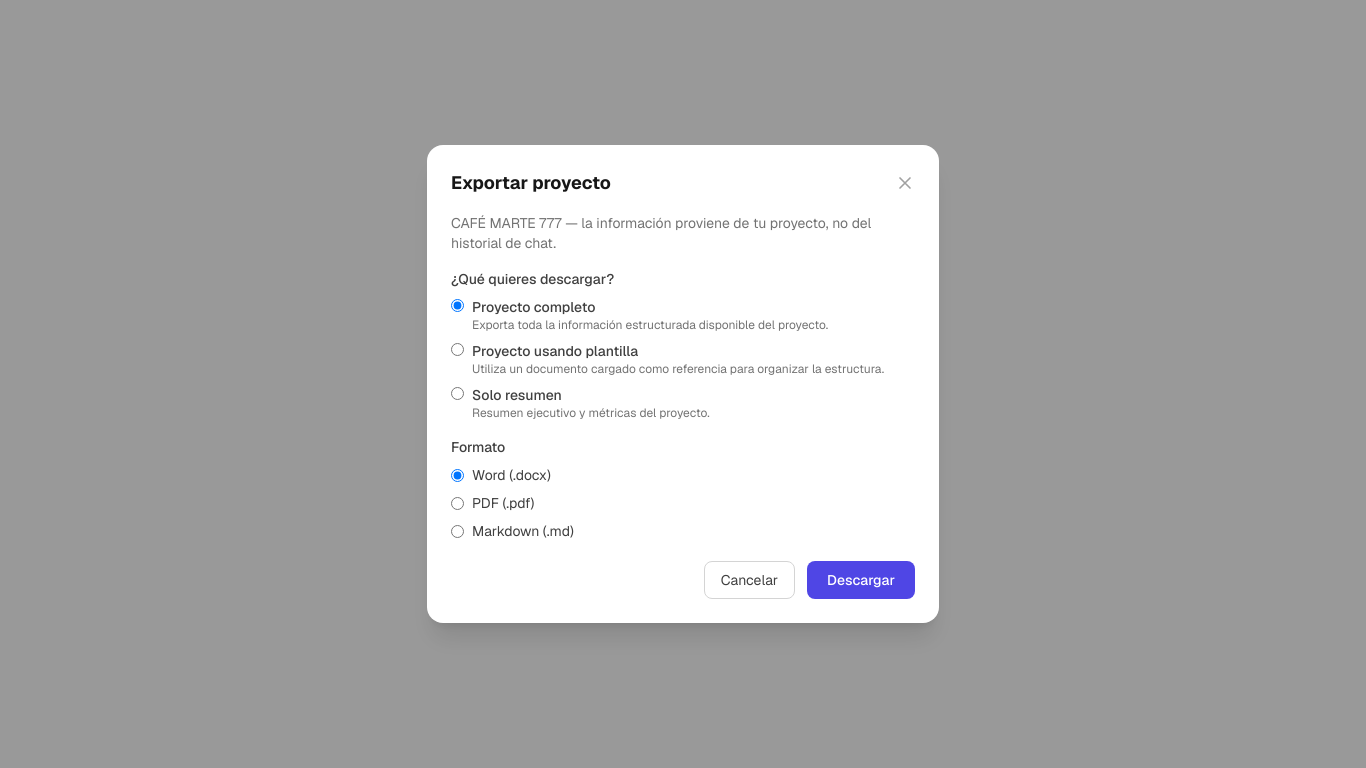
Test: ExportProjectModal › descarga DOCX en modo completo con nombre correcto
What coordinates should you click on to do the following:
click the button "Descargar"
I would click on:
 (861, 580)
Its box is x1=807 y1=561 x2=915 y2=599.
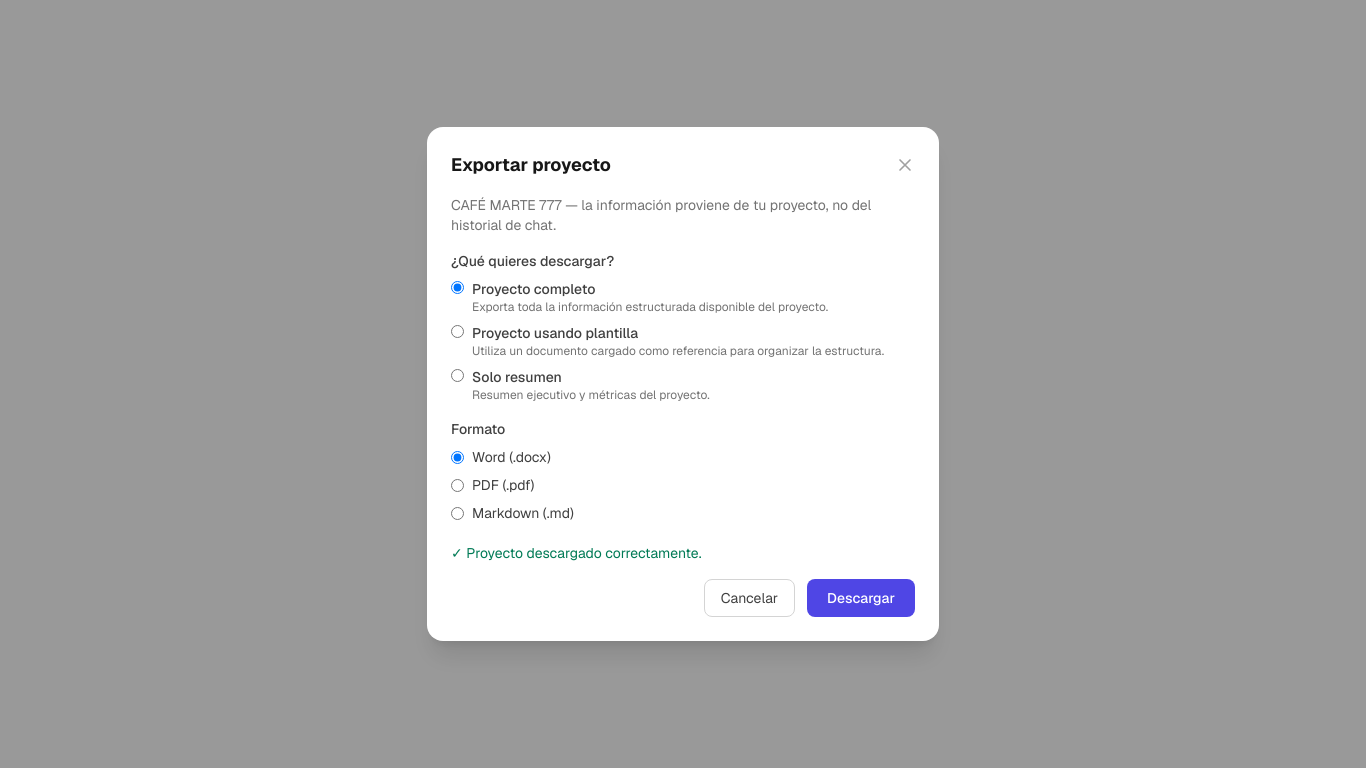
Expected: the text "✓ Proyecto descargado correctamente." is shown, x1=451 y1=544 x2=702 y2=562
